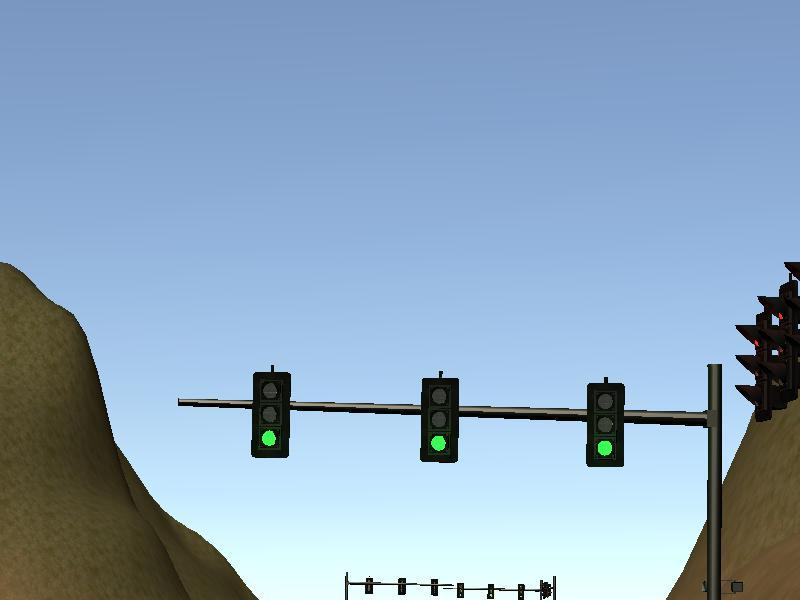Green: (422, 378, 458, 461), (253, 373, 288, 458), (586, 384, 622, 464)
